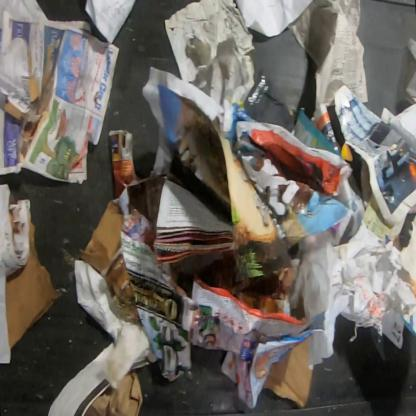cardboard: (6, 211, 58, 353), (261, 335, 314, 408), (78, 199, 124, 275), (83, 370, 145, 415)
soft_plastic: (406, 37, 415, 62)
